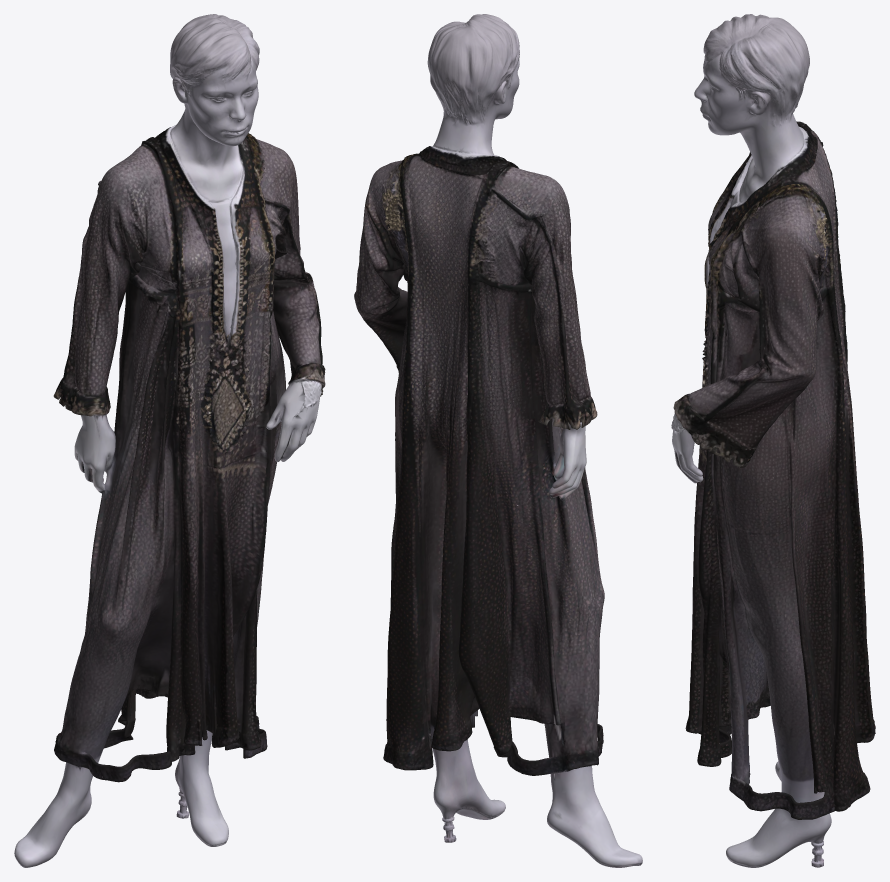
The picture shows the model from 3 angles, left to right: view 1: azimuth 30°, elevation 25°; view 2: azimuth 150°, elevation 25°; view 3: azimuth 270°, elevation 25°; orthographic projection. The views are drawn at different scales.
Visible parts, largest first — view 1: tripo_node_0c49aa0c-d8e7-4869-ac56-c038a02bbace; view 2: tripo_node_0c49aa0c-d8e7-4869-ac56-c038a02bbace; view 3: tripo_node_0c49aa0c-d8e7-4869-ac56-c038a02bbace.
Part boxes in pixels (box(x1,y1,x2,y2)): tripo_node_0c49aa0c-d8e7-4869-ac56-c038a02bbace: box(14, 14, 325, 867); tripo_node_0c49aa0c-d8e7-4869-ac56-c038a02bbace: box(354, 14, 642, 867); tripo_node_0c49aa0c-d8e7-4869-ac56-c038a02bbace: box(671, 14, 875, 867).
Bounding box in the file's own units: 0.3623 × 0.9792 × 0.214.
Materials: 1 (1 with a texture image).
